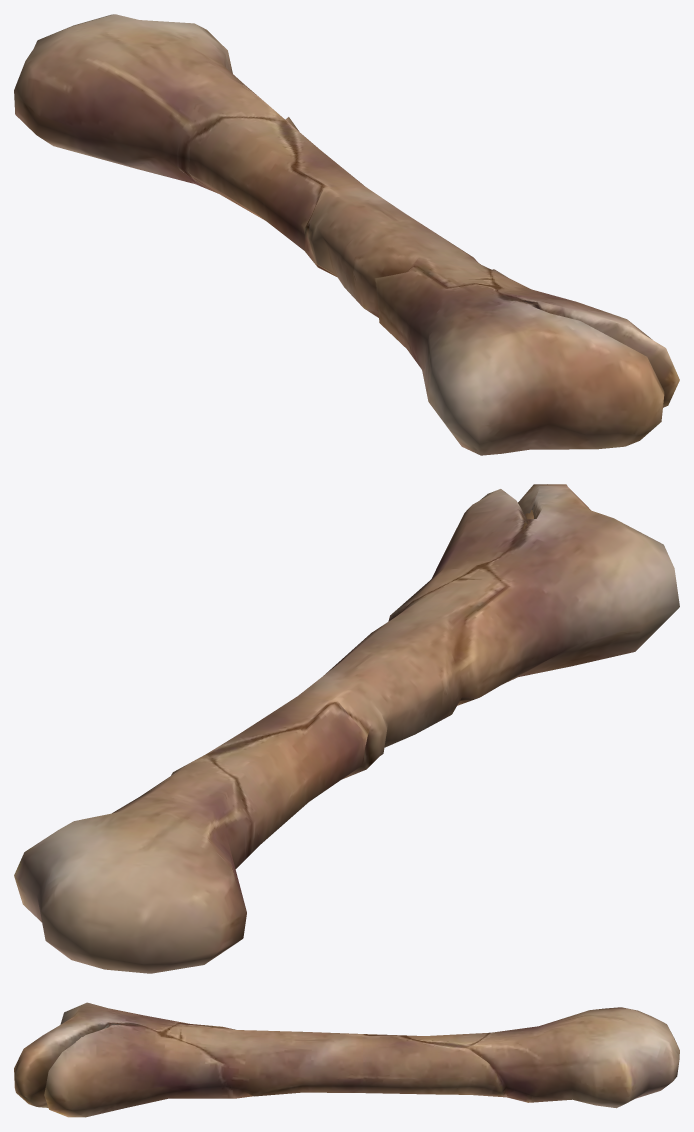
3 views of the same model, one above another, from view 1: azimuth 30°, elevation 25°; view 2: azimuth 150°, elevation 25°; view 3: azimuth 270°, elevation 25° (orthographic). The views are drawn at different scales.
Parts seen in each view (by area): view 1: SM_Undead_Bone_01_LOD0; view 2: SM_Undead_Bone_01_LOD0; view 3: SM_Undead_Bone_01_LOD0.
Boxes of the visible parts, box(x1,y1,x2,y2) form: SM_Undead_Bone_01_LOD0: box(14, 14, 679, 455); SM_Undead_Bone_01_LOD0: box(14, 484, 679, 973); SM_Undead_Bone_01_LOD0: box(14, 1002, 679, 1117).
Bounding box in the file's own units: 0.1228 × 0.0691 × 0.5104.
1 material, 1 textured.
